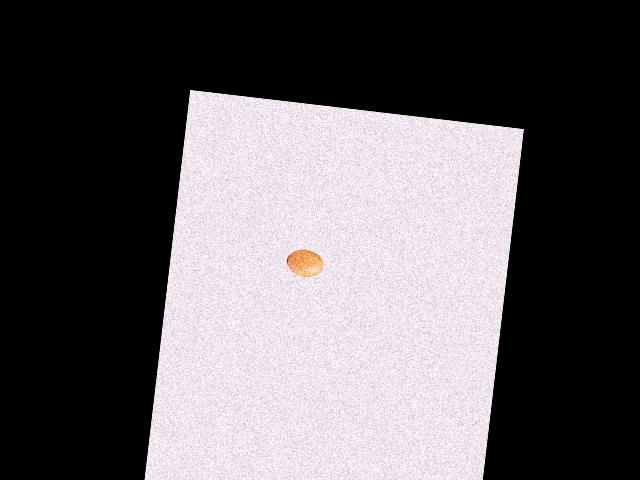egg: (285, 247, 325, 278)
